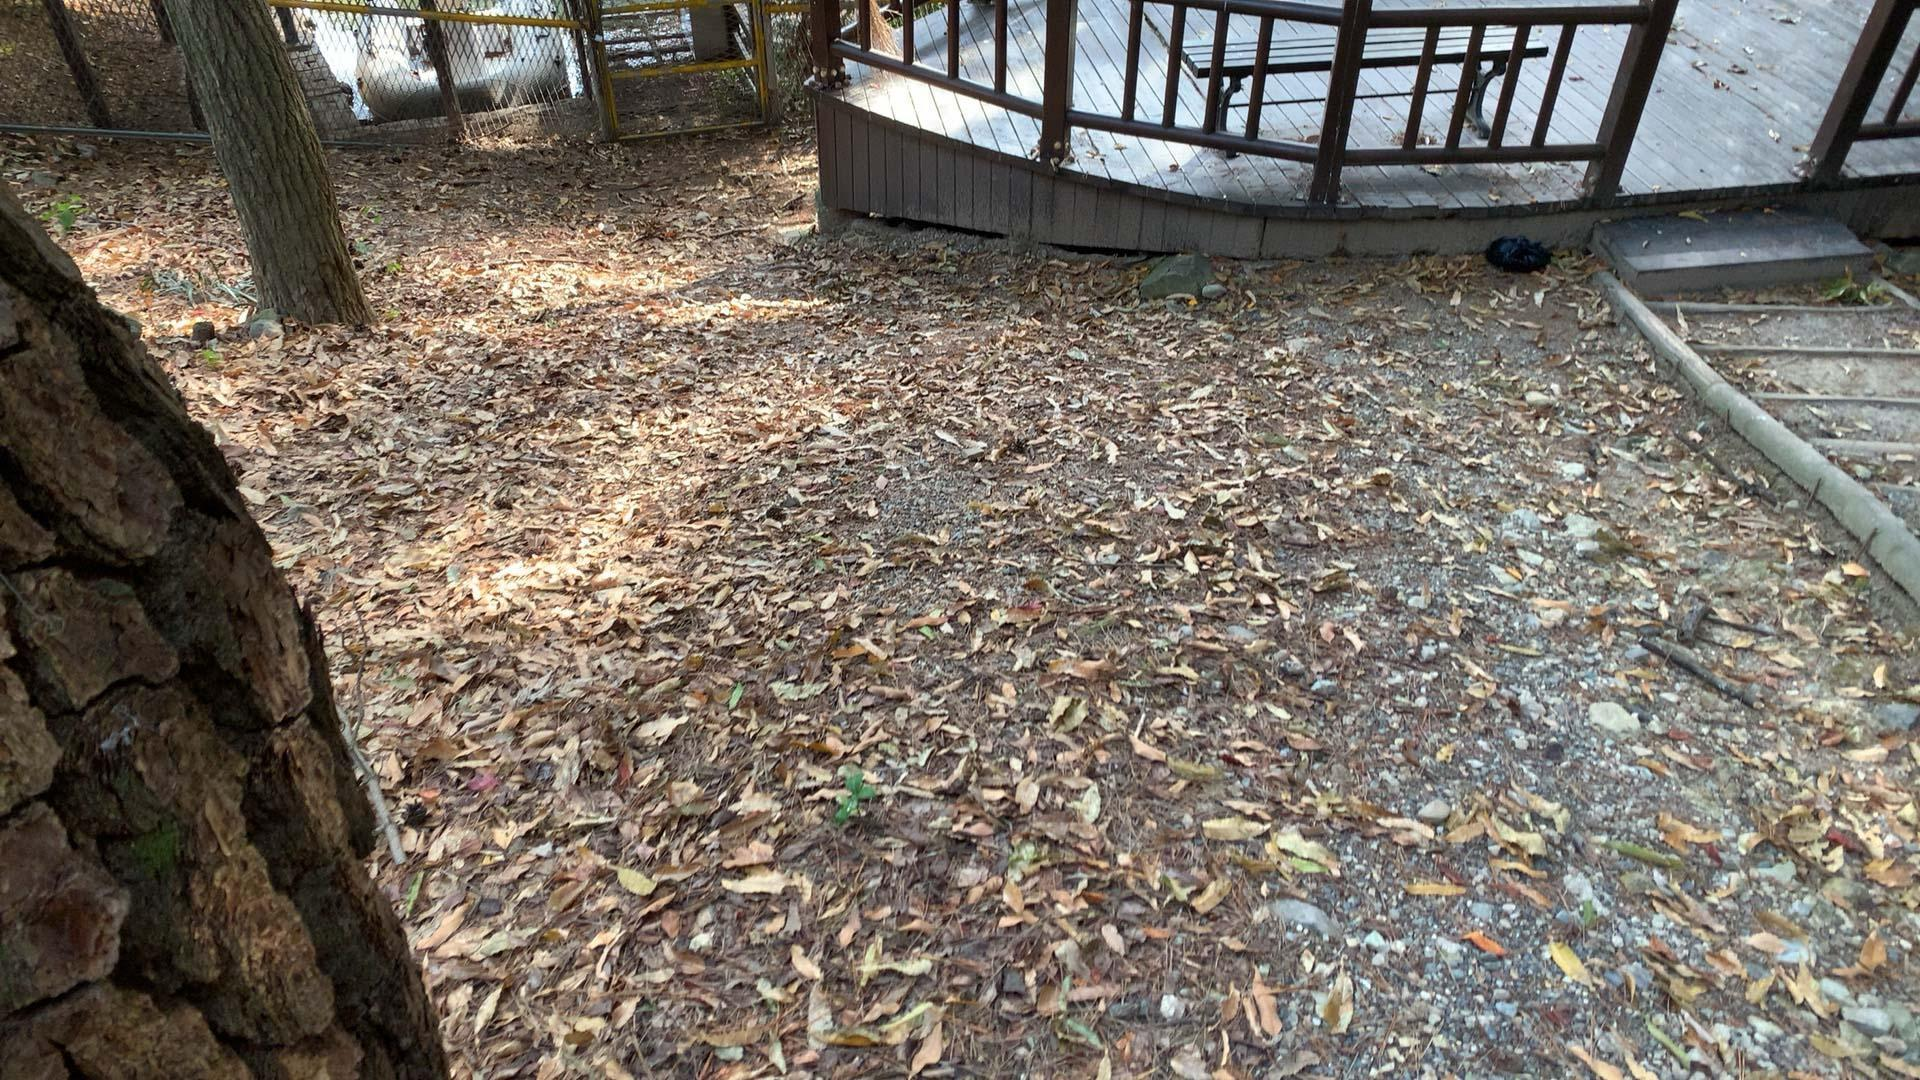black_bag: (1480, 231, 1553, 276)
